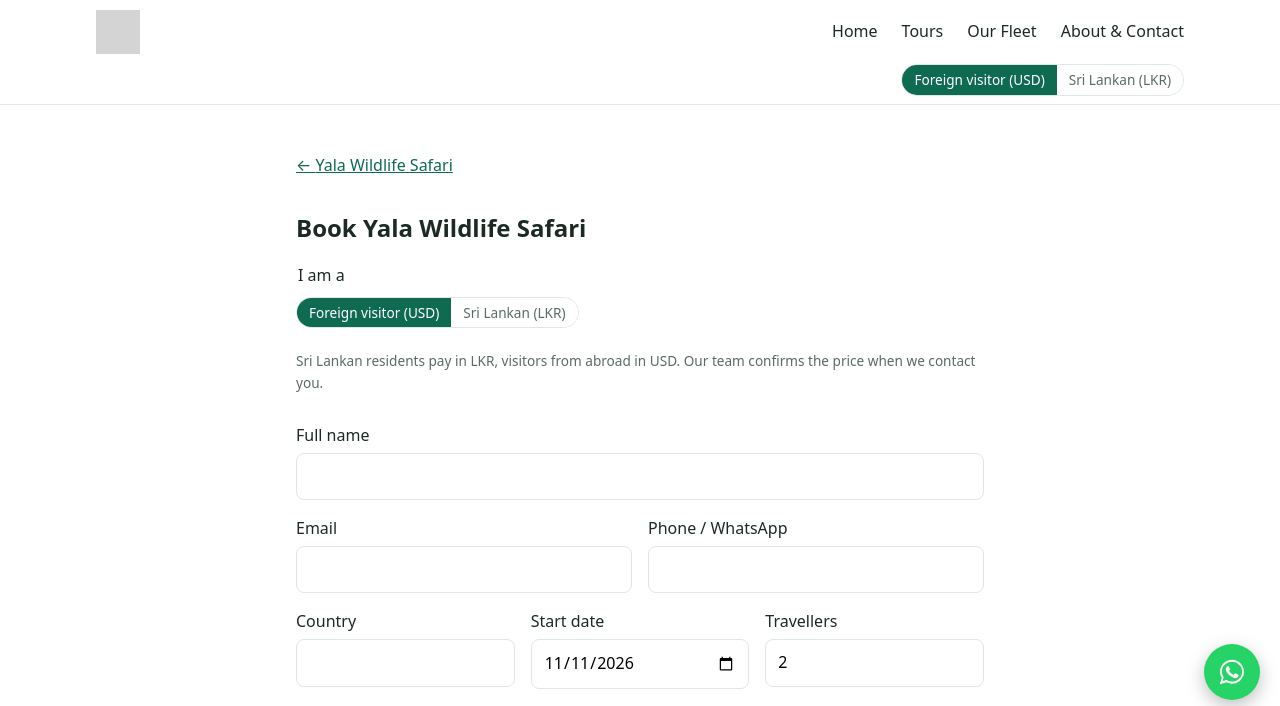
booking › shows server validation errors
Expected: the heading "Book Yala Wildlife Safari" is shown, [296,211,586,244]
Type "Anna Schmidt" into the field labelled "Full name" at (640, 476), box [296,453,984,500]
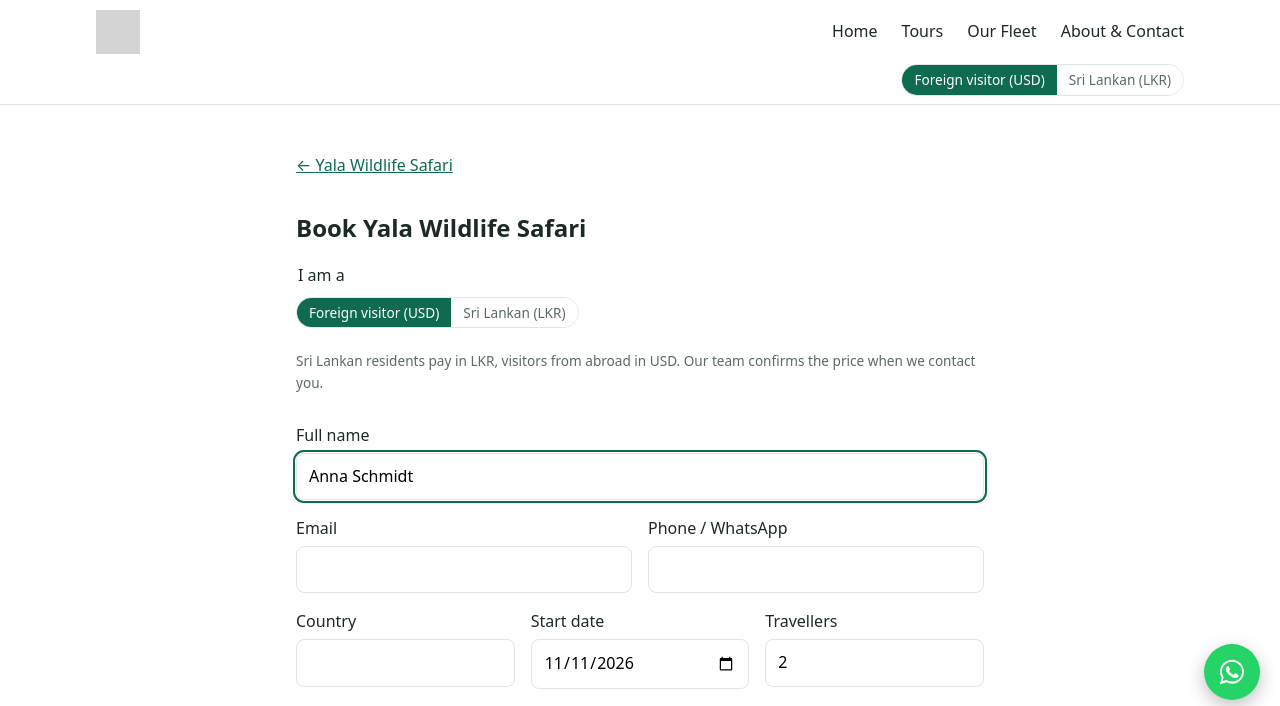
Type "anna@example.com" into the field labelled "Email" at (464, 570), box [296,546,632,593]
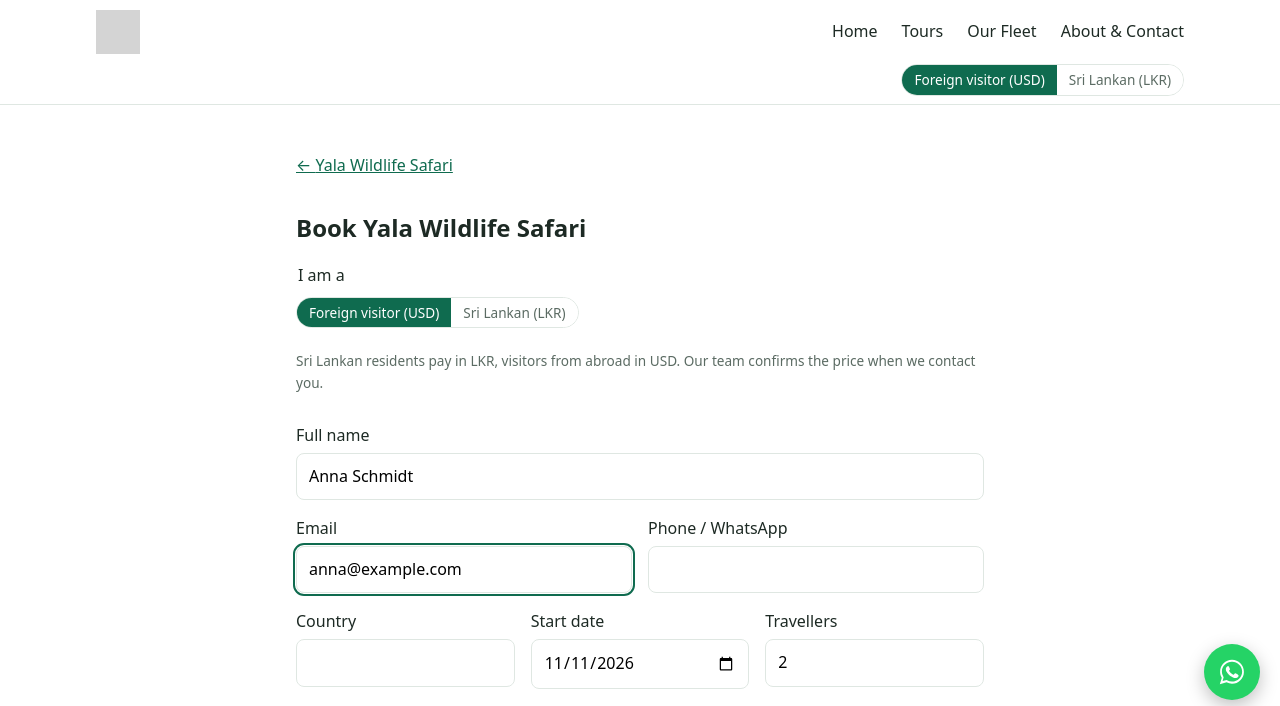
Type "+49 151 2345678" into the field labelled "Phone / WhatsApp" at (816, 570), box [648,546,984,593]
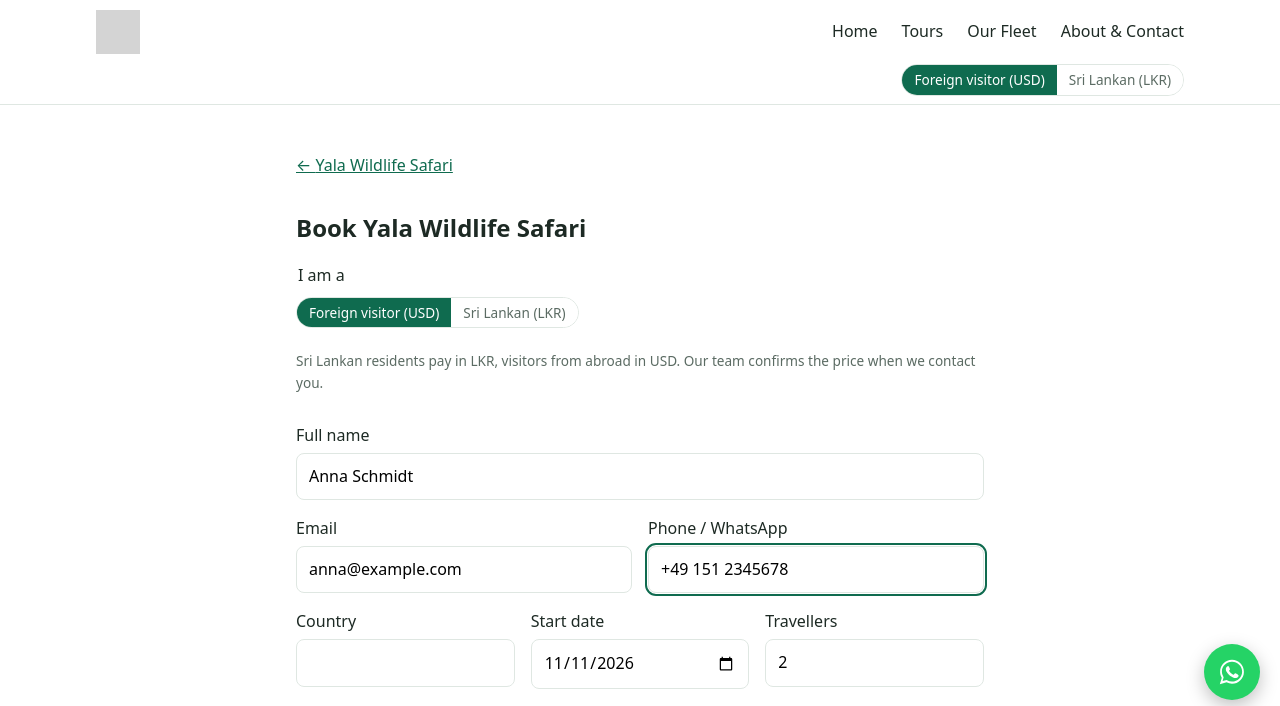
Type "Germany" into the field labelled "Country" at (405, 663), box [296,639,515,687]
(page scrolled)
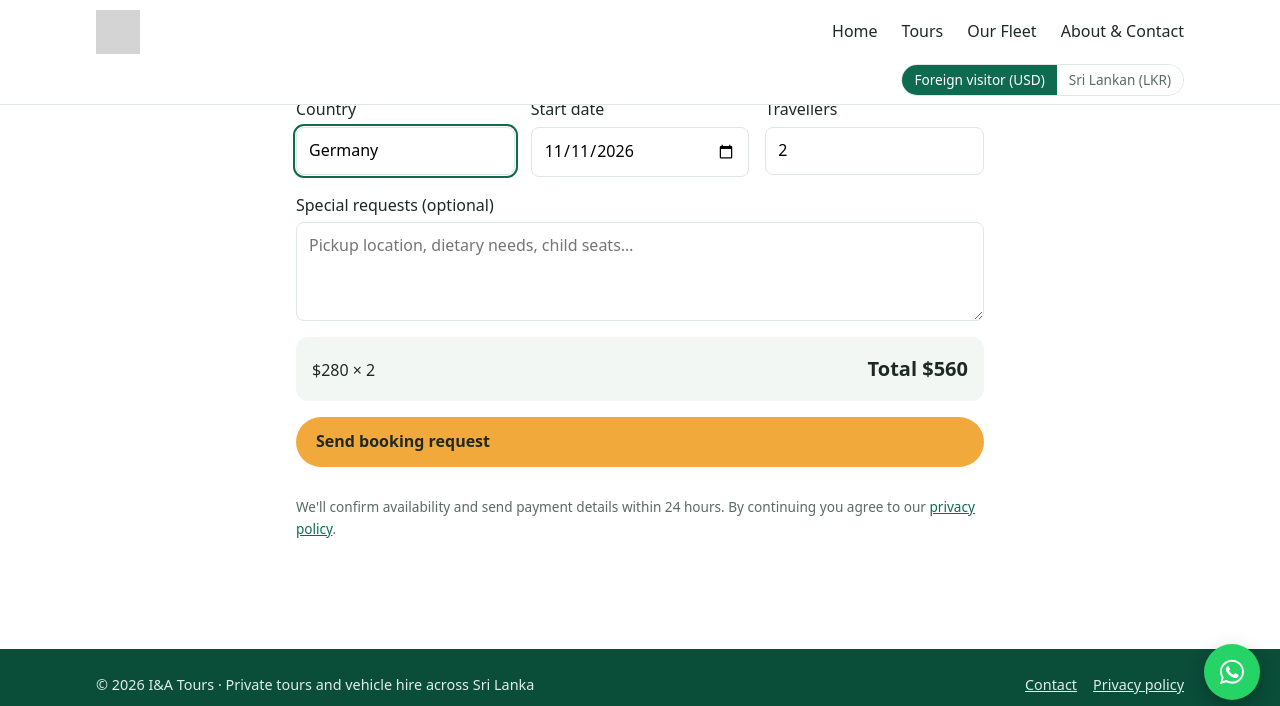
Click the button "Send booking request" at (403, 441), box [296,417,984,466]
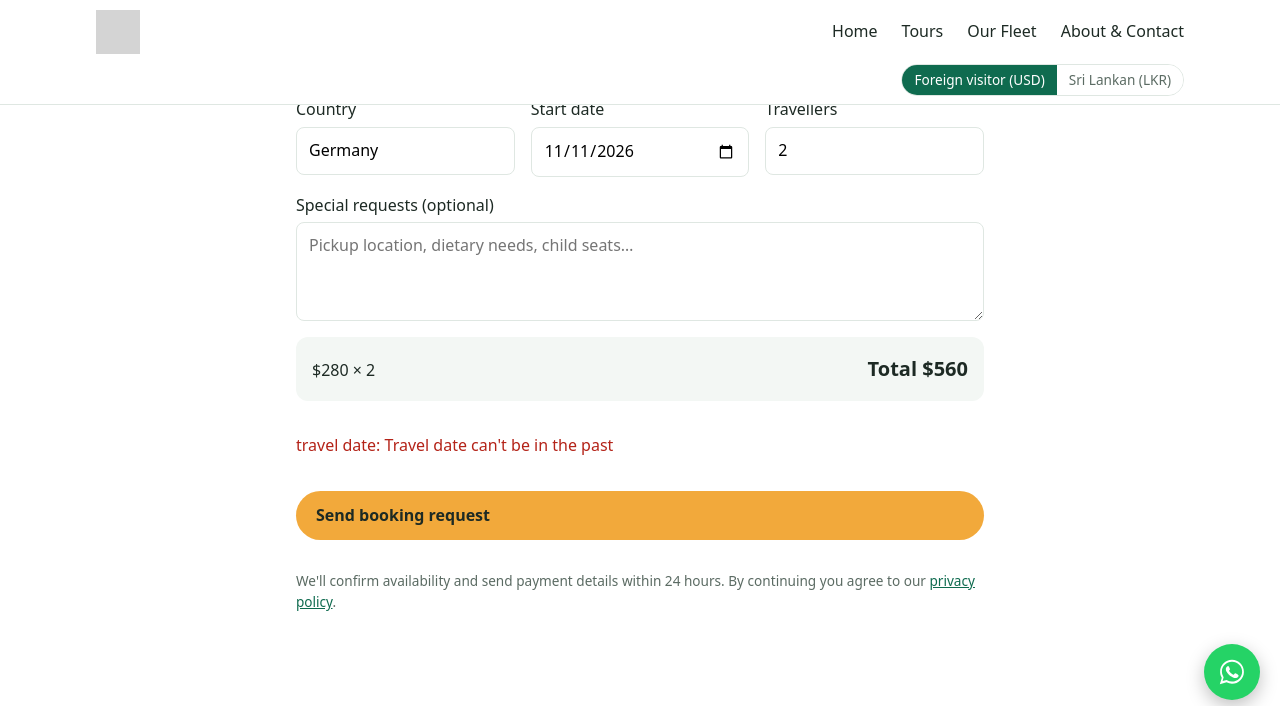
Expected: the message reads "travel date: Travel date can't be in the past", [296,434,613,456]
